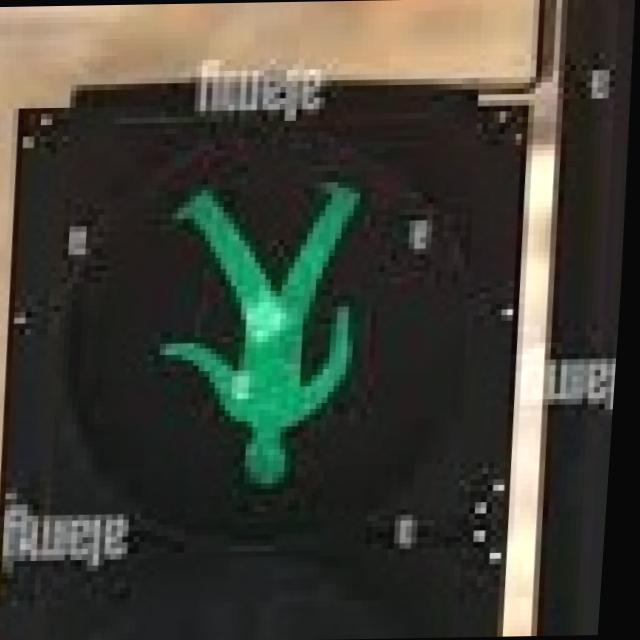green_light: (133, 151, 421, 535)
